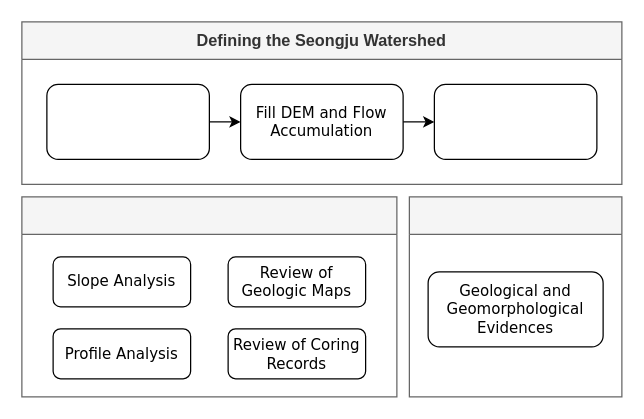
Image size: 644x419. Some labels were removed from this diagram. The shapes that lost their labels are listed below. From the top down, each one's box as (x1, y1, x2, y2) in pixels, then its label:
(46, 83, 209, 159): Acquisition of DEM
(433, 83, 597, 159): the Seongju Watershed and Channels
(21, 196, 397, 397): Labwork
(408, 196, 622, 397): Fieldwork
